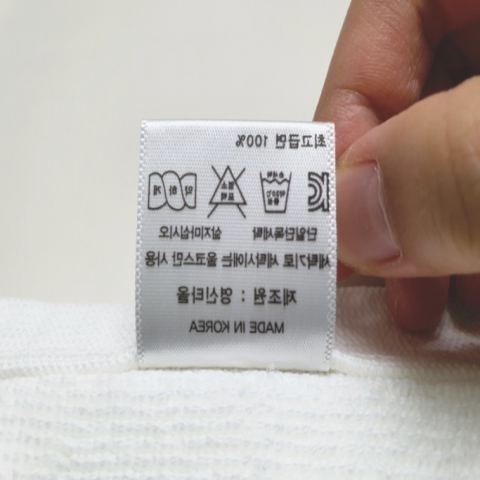hand_wash: (253, 169, 294, 218)
non_chlorine_bleach: (204, 160, 249, 221)
wring: (146, 170, 200, 213)
